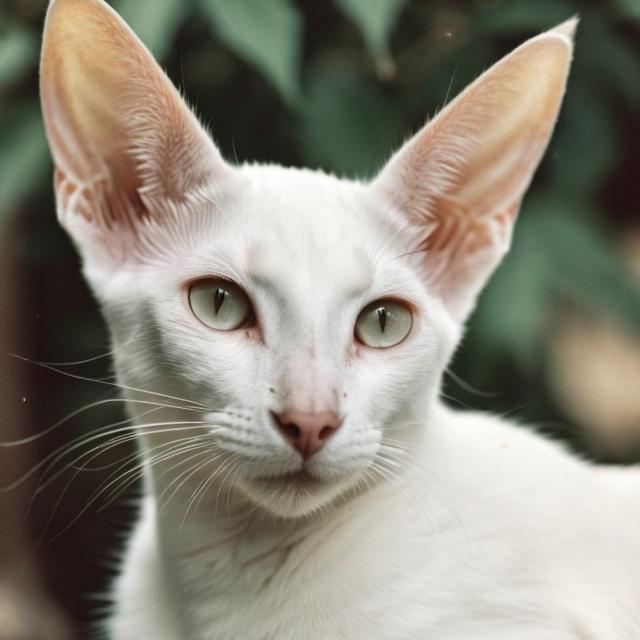Oriental: (35, 0, 640, 640)
